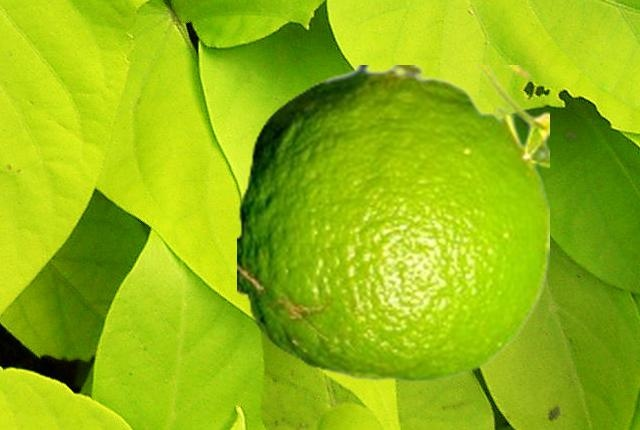dalandan: (237, 65, 548, 381)
